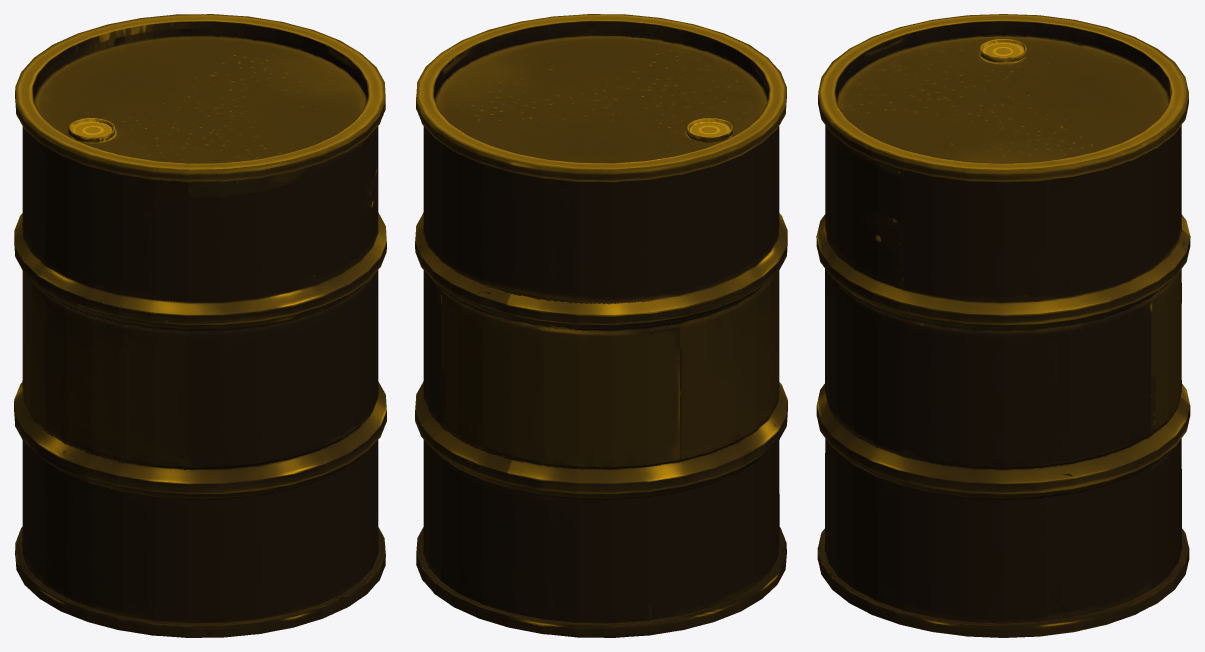
Rendered from fire.glb.
3 views of the same model, side by side, from view 1: azimuth 30°, elevation 25°; view 2: azimuth 150°, elevation 25°; view 3: azimuth 270°, elevation 25° (orthographic).
Visible parts, largest first — view 1: model; view 2: model; view 3: model.
Boxes of the visible parts, x1,y1,x2,y2 form: model: (14, 14, 386, 637); model: (415, 14, 787, 637); model: (816, 14, 1190, 637).
Size of the model in its own units: 1.38 by 1.9 by 1.38.
Materials: 1 (1 with a texture image).
